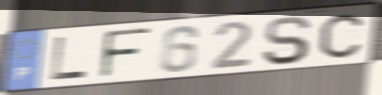2: (208, 20, 254, 72)
6: (158, 24, 201, 74)
C: (318, 12, 366, 60)
F: (98, 26, 154, 80)
L: (48, 35, 89, 82)
S: (260, 14, 315, 67)
